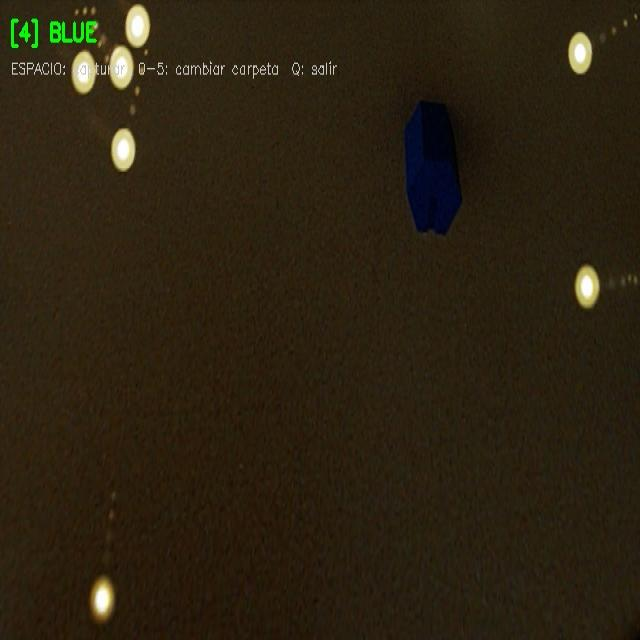blue: (402, 95, 462, 235)
